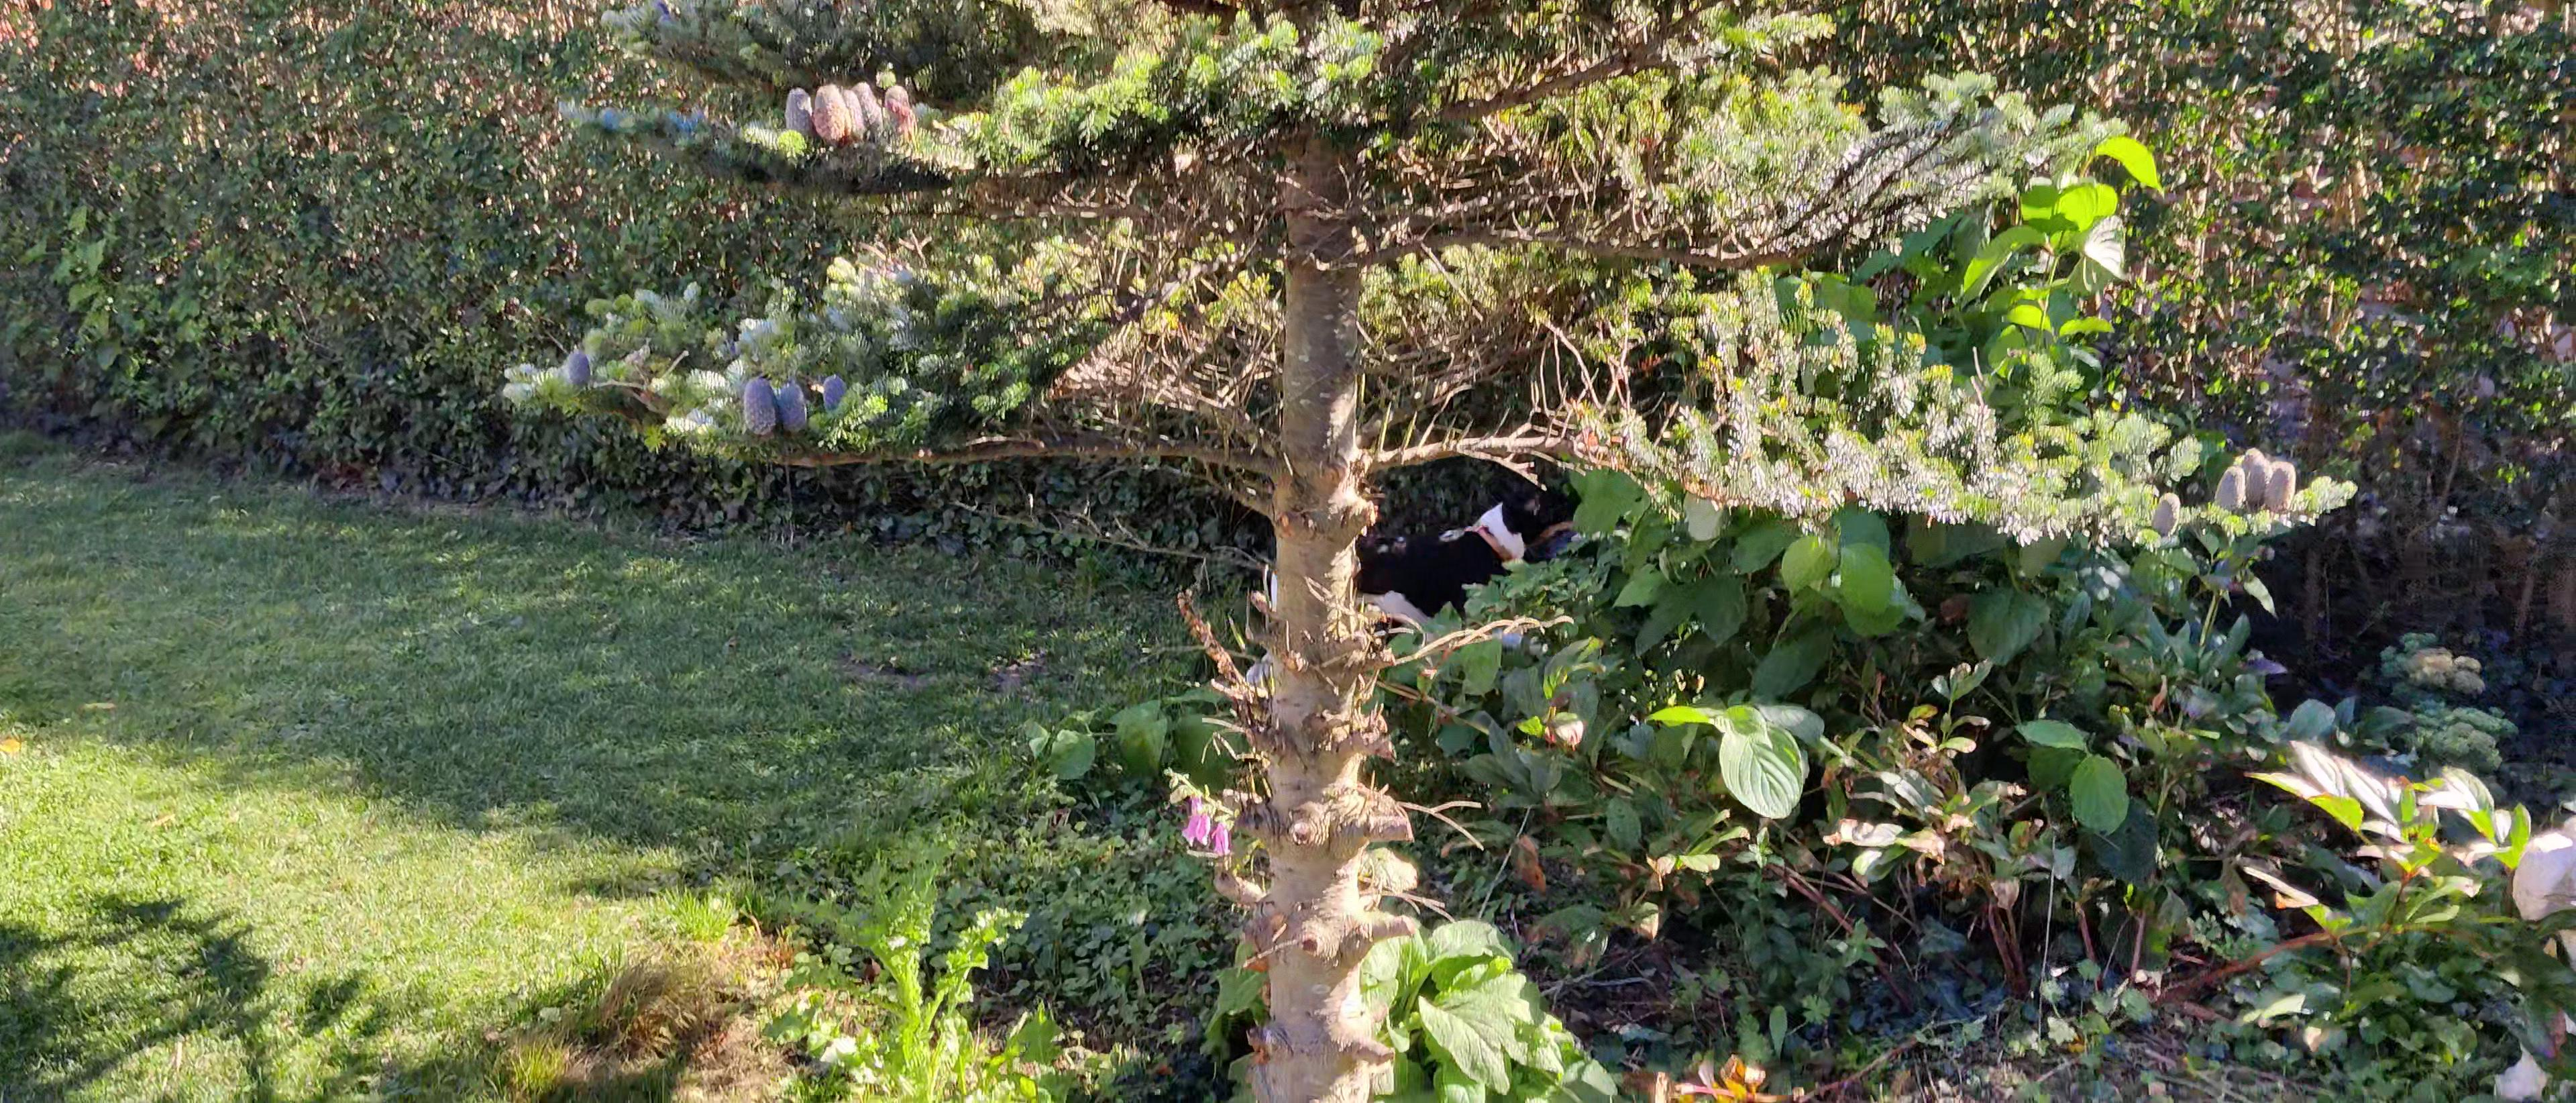Dog: (1347, 480, 1589, 638)
